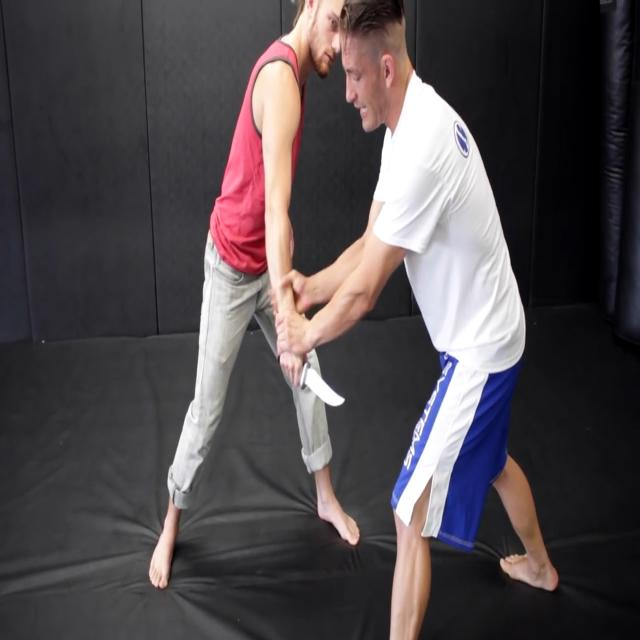knife: (302, 364, 349, 412)
